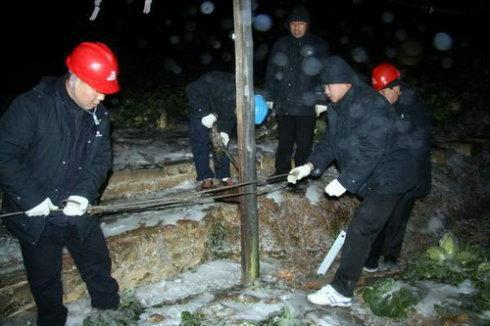head: (316, 54, 361, 107), (283, 7, 313, 40)
helmet: (62, 40, 125, 109), (367, 60, 408, 103), (238, 87, 270, 127)
